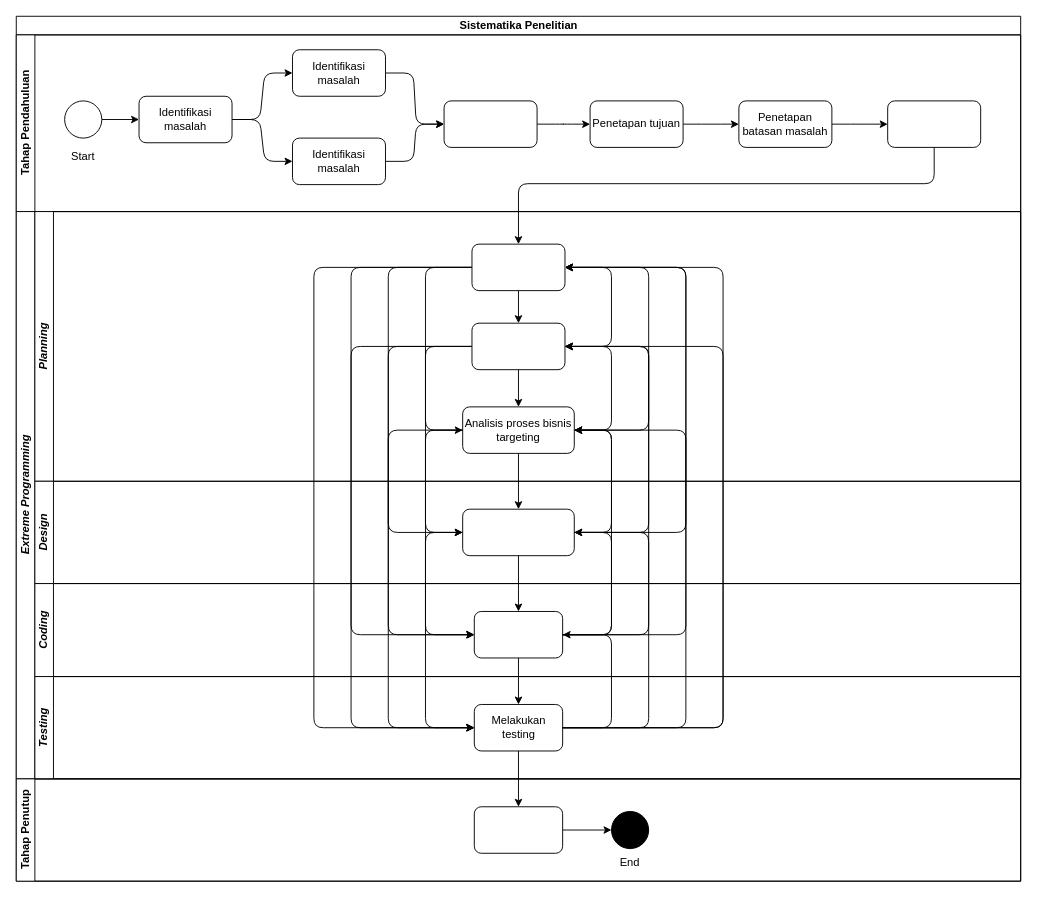
Image size: 1037x897. Some labels were removed from this diagram. Each missing label, with the centre of its shape:
"Analisis GAP" belongs at (x=518, y=346).
"Analisis kebutuhan fungsional (UML)" belongs at (x=518, y=532).
"Analisis proses bisnis" belongs at (x=518, y=267).
"Kesimpulan dan saran" belongs at (x=518, y=829).
"Melakukan coding" belongs at (x=518, y=634).
"Penetapan latar belakang masalah" belongs at (x=490, y=123).
"Studi literatur" belongs at (x=934, y=123).
